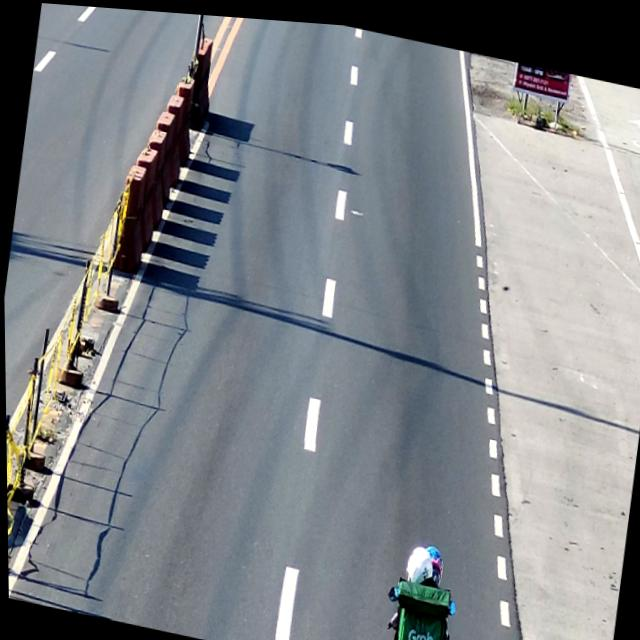Motorcycle: (375, 573, 456, 640)
